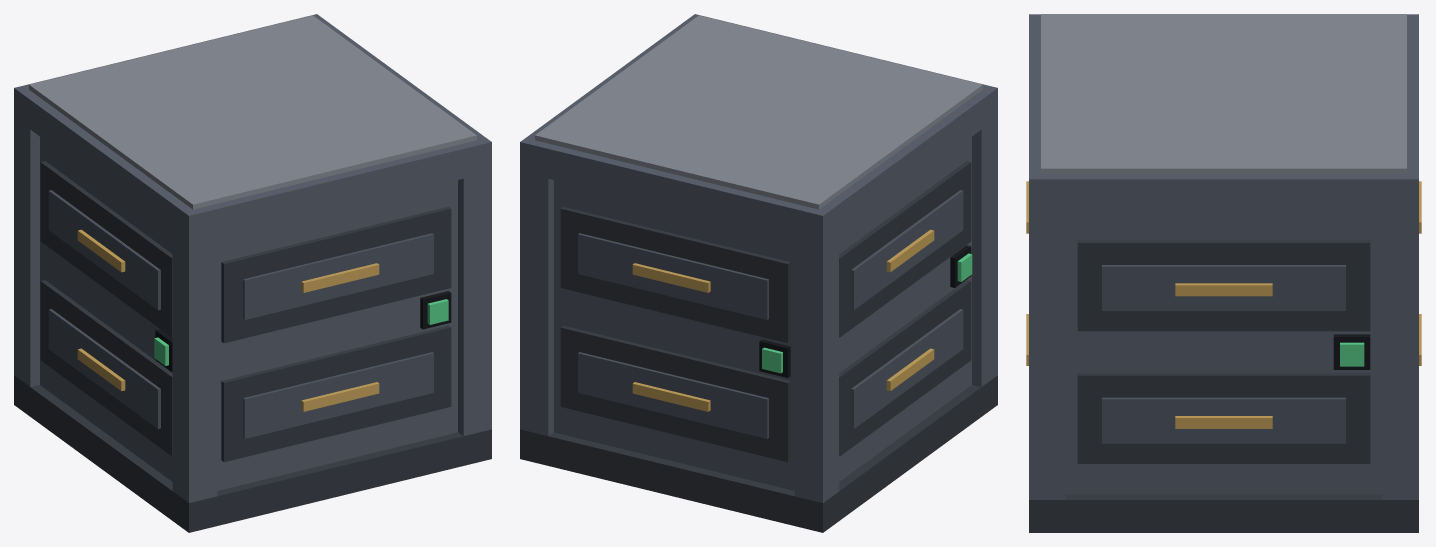
File: cell.glb
3 views of the same model, side by side, from view 1: azimuth 30°, elevation 25°; view 2: azimuth 150°, elevation 25°; view 3: azimuth 270°, elevation 25° (orthographic). The views are drawn at different scales.
Visible parts, largest first — view 1: body.032; view 2: body.032; view 3: body.032.
Part boxes in pixels (<box>): body.032: <box>14,14,491,532</box>; body.032: <box>520,14,997,532</box>; body.032: <box>1026,14,1421,532</box>.
Bounding box in the file's own units: 1.01 × 1.02 × 1.01.
